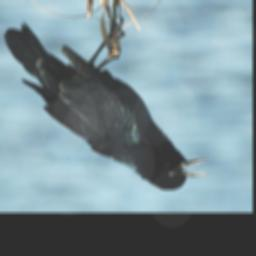Crow: (4, 15, 208, 190)
